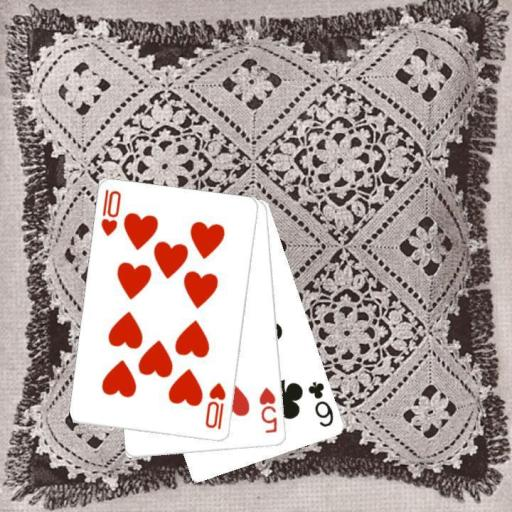card-corner: (305, 378, 336, 429), (202, 380, 228, 431), (97, 187, 123, 238), (256, 385, 280, 435)
